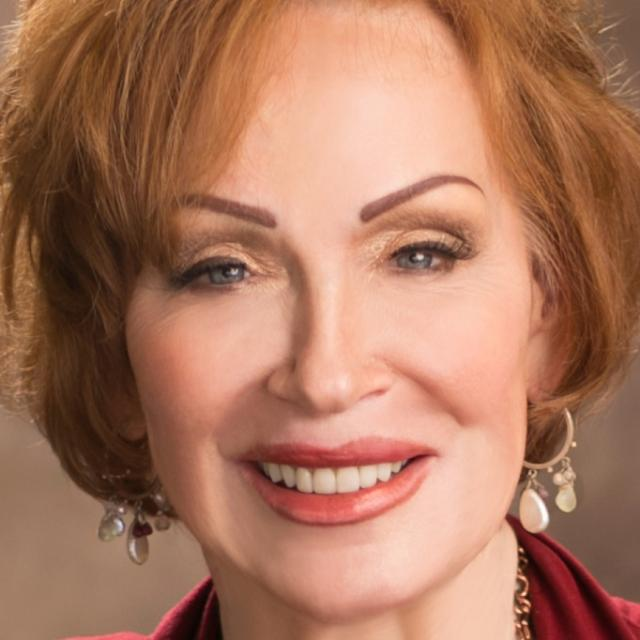Normal: (122, 3, 532, 624)
